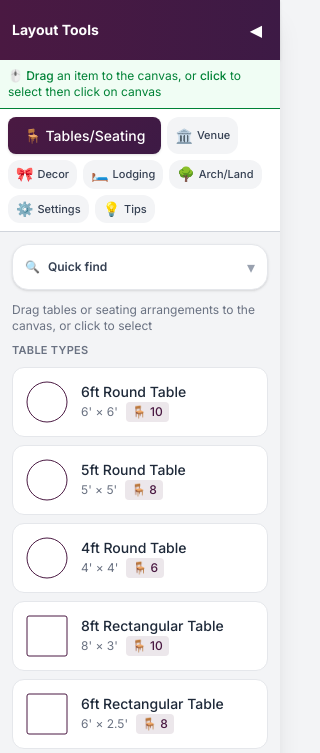
Scenario: Sidebar grid & snap controls › renders grid/snap controls and reflects the showGrid state
// Grid & Snap now lives in the Settings section.
What coordinates should you click on to do the following:
click the button "⚙️ Settings"
I would click on:
 (48, 209)
Its box is [8, 194, 89, 223].
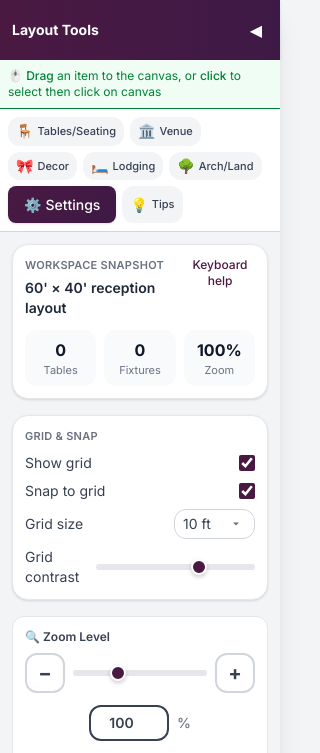
Result: the checkbox labelled "Show grid" is checked at [239, 454, 255, 470]
Result: the checkbox labelled "Snap to grid" is checked at [239, 482, 255, 498]
Result: the dropdown showing "10 ft" is shown at [174, 508, 255, 538]
